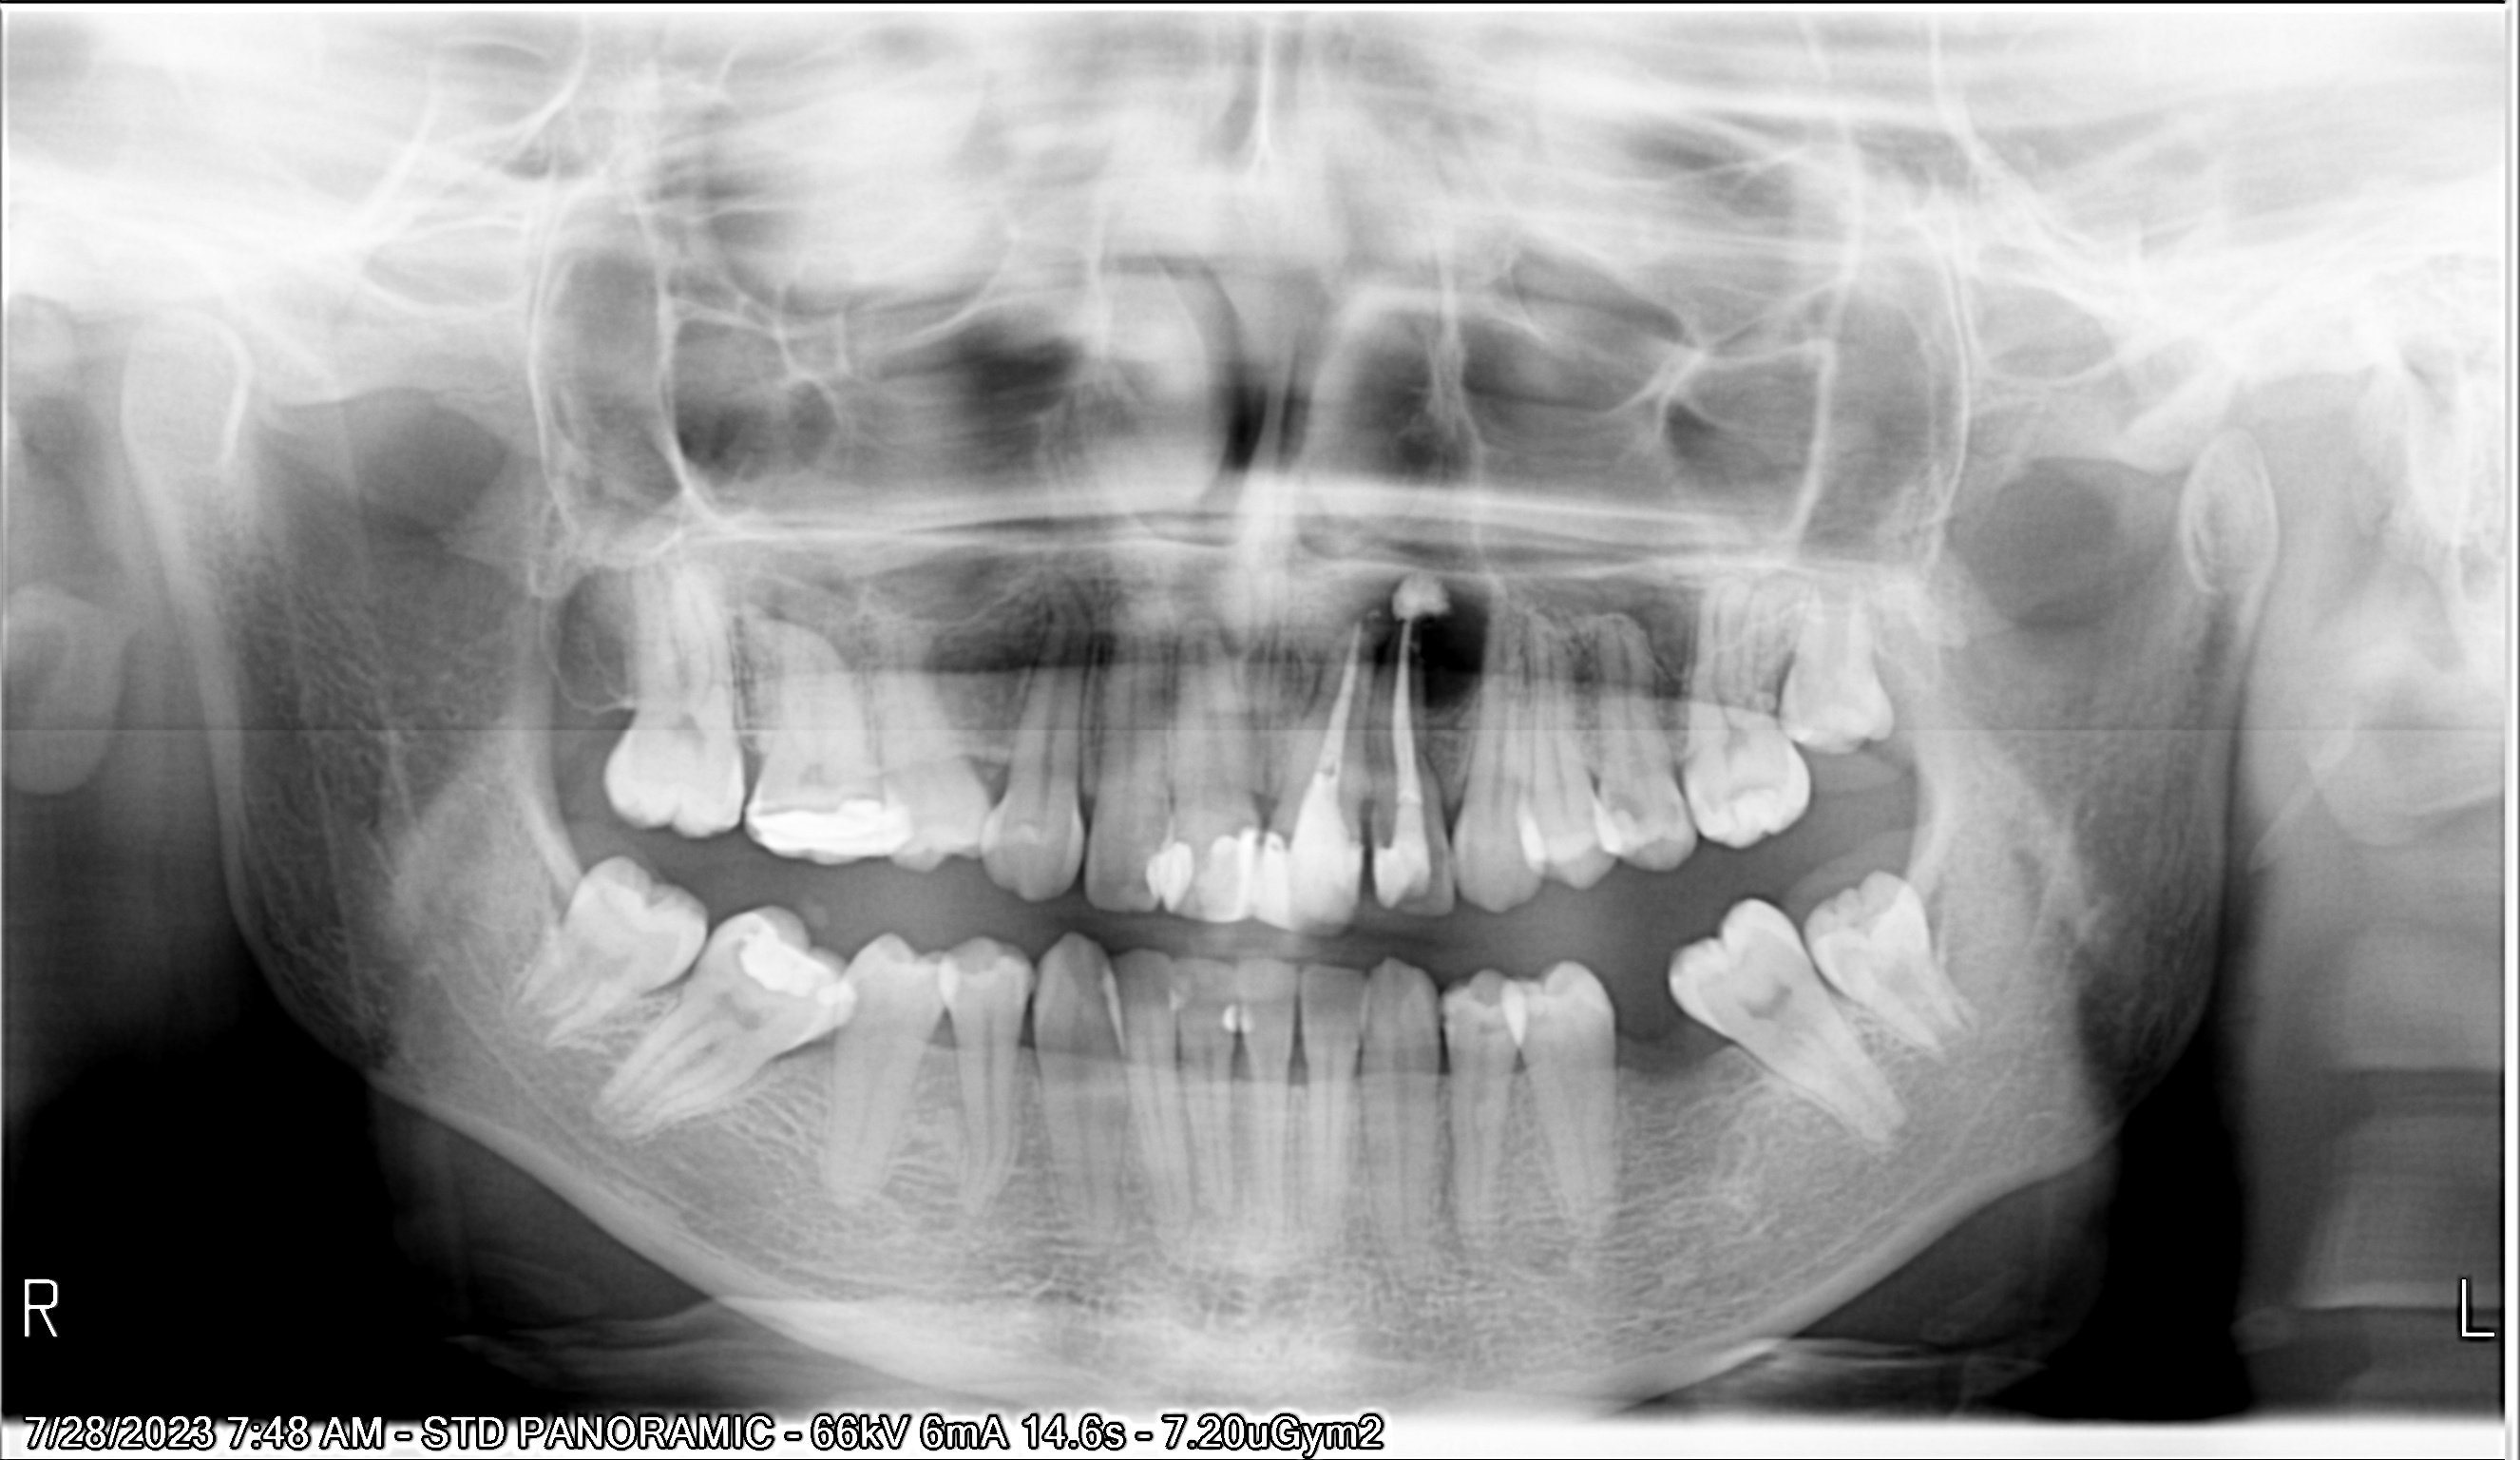API: (1412, 567, 1483, 707), (1341, 589, 1382, 669)
BON: (1289, 1048, 1308, 1081), (1238, 1053, 1250, 1092)
CAR: (1613, 779, 1650, 859), (764, 791, 858, 817), (735, 970, 780, 994), (1223, 817, 1252, 843), (1712, 930, 1733, 963), (1276, 817, 1296, 850), (1850, 921, 1877, 942), (1440, 1005, 1454, 1034)
END: (1304, 622, 1369, 864), (1386, 620, 1438, 888)
IMT: (1794, 574, 1890, 742)
OBT: (757, 812, 901, 860), (745, 930, 820, 996), (1171, 843, 1198, 921), (1381, 838, 1402, 897), (1237, 1005, 1263, 1048), (1145, 843, 1160, 911), (1228, 996, 1237, 1041)
PRR: (1252, 829, 1348, 946)
